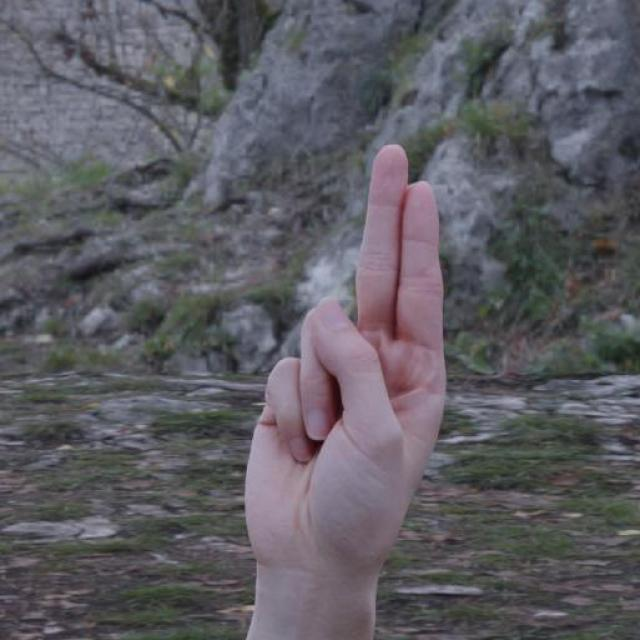U: (245, 140, 454, 580)
